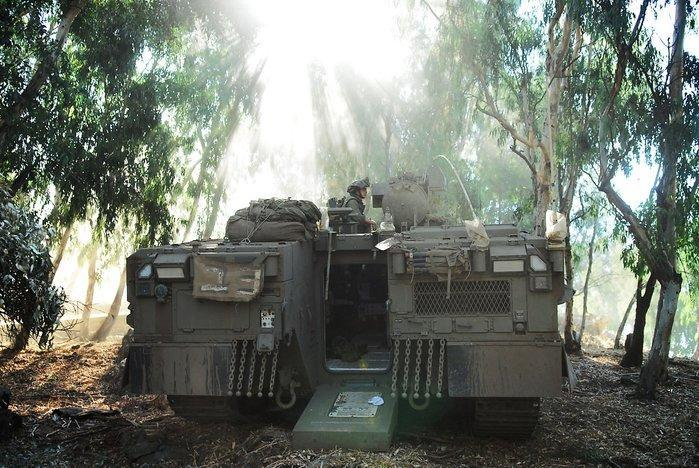MIL_IFV: (115, 173, 573, 455)
